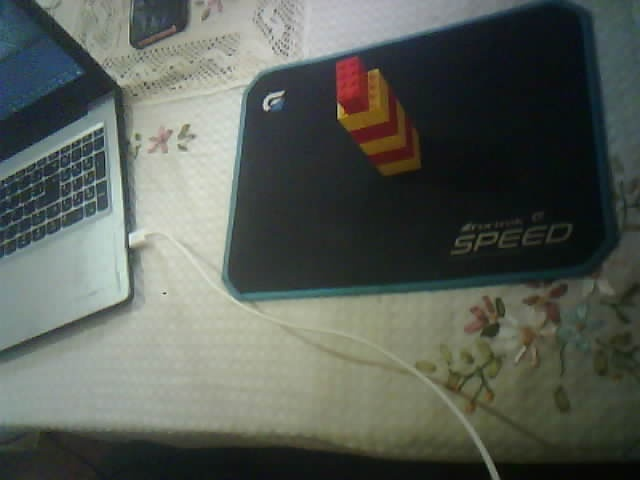lego: (335, 54, 422, 179)
